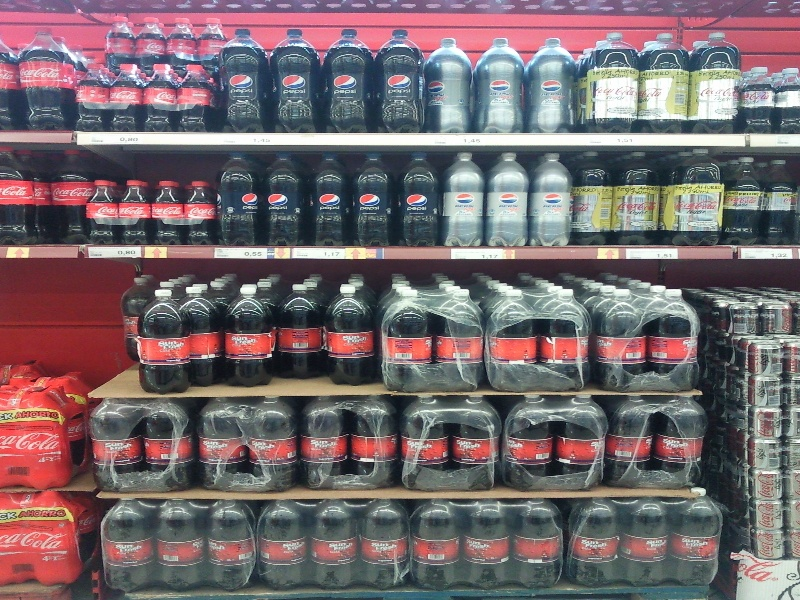lemonade: (579, 26, 643, 134), (687, 32, 745, 135), (16, 29, 73, 133), (323, 27, 378, 134), (137, 290, 193, 393), (275, 283, 329, 384), (217, 26, 268, 132), (270, 29, 320, 134), (639, 31, 688, 134), (330, 289, 380, 388), (675, 149, 725, 248), (422, 40, 472, 133), (381, 29, 424, 134), (486, 155, 531, 252), (304, 153, 348, 252), (525, 37, 570, 132), (477, 36, 522, 131), (230, 287, 274, 384), (48, 146, 88, 248), (443, 155, 487, 246), (215, 153, 258, 245), (534, 150, 574, 245), (403, 154, 442, 251), (263, 149, 301, 245), (356, 153, 391, 246), (106, 64, 145, 134), (177, 63, 212, 134), (85, 180, 122, 247), (144, 60, 177, 134), (185, 177, 219, 248), (73, 63, 109, 130), (152, 178, 184, 247), (120, 177, 151, 245)
